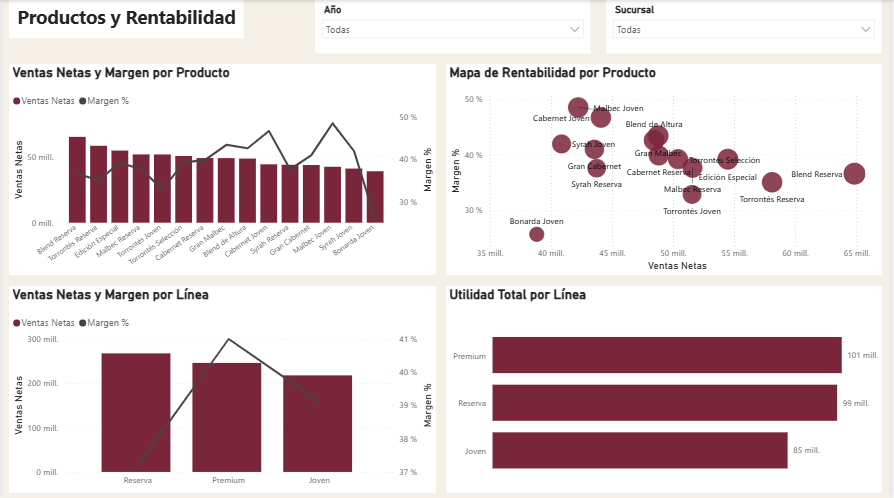

The page's visual inventory and layout, read from the dashboard file:
{"tool":"powerbi","page":{"name":"Productos y Rentabilidad","canvas":[1280,720],"ordinal":2},"visuals":[{"type":"textbox","box":[10.1,0,338.4,54.7],"z":0},{"type":"slicer","fields":{"Values":["dim_calendario.Año"]},"box":[450.7,0,397,77],"z":1000},{"type":"slicer","fields":{"Values":["dim_sucursales1.nombre_sucursal"]},"box":[869.8,0,397,77],"z":2000},{"type":"lineStackedColumnComboChart","title":"Ventas Netas y Margen por Producto","fields":{"Category":["dim_productos2.nombre_producto"],"Y":["Medidas (2).Ventas_Netas"],"Y2":["Medidas (2).Margen %"]},"box":[10.1,92.2,614.9,303.8],"z":3000},{"type":"scatterChart","title":"Mapa de Rentabilidad por Producto","fields":{"X":["Medidas (2).Ventas_Netas"],"Y":["Medidas (2).Margen %"],"Category":["dim_productos2.nombre_producto"],"Size":["Medidas (2).Utilidad_Total"]},"box":[639.4,92.2,627.8,303.8],"z":4000},{"type":"lineStackedColumnComboChart","title":"Ventas Netas y Margen por Línea ","fields":{"Category":["dim_productos2.linea"],"Y":["Medidas (2).Ventas_Netas"],"Y2":["Medidas (2).Margen %"]},"box":[10.1,411.8,614.9,298.1],"z":5000},{"type":"barChart","title":"Utilidad Total por Línea","fields":{"Category":["dim_productos2.linea"],"Y":["Medidas (2).Utilidad_Total"]},"box":[639.4,411.8,627.8,298.1],"z":6000}]}

Visuals, with their boxes in screenshot pixels (x1, y1, x2, y2), scaled from the page's 1280x720 canvas onto the 894x498 screenshot:
textbox: [7,0,243,38]
slicer - dim_calendario.Año: [315,0,592,53]
slicer - dim_sucursales1.nombre_sucursal: [608,0,885,53]
"Ventas Netas y Margen por Producto" lineStackedColumnComboChart: [7,64,437,274]
"Mapa de Rentabilidad por Producto" scatterChart: [447,64,885,274]
"Ventas Netas y Margen por Línea " lineStackedColumnComboChart: [7,285,437,491]
"Utilidad Total por Línea" barChart: [447,285,885,491]
